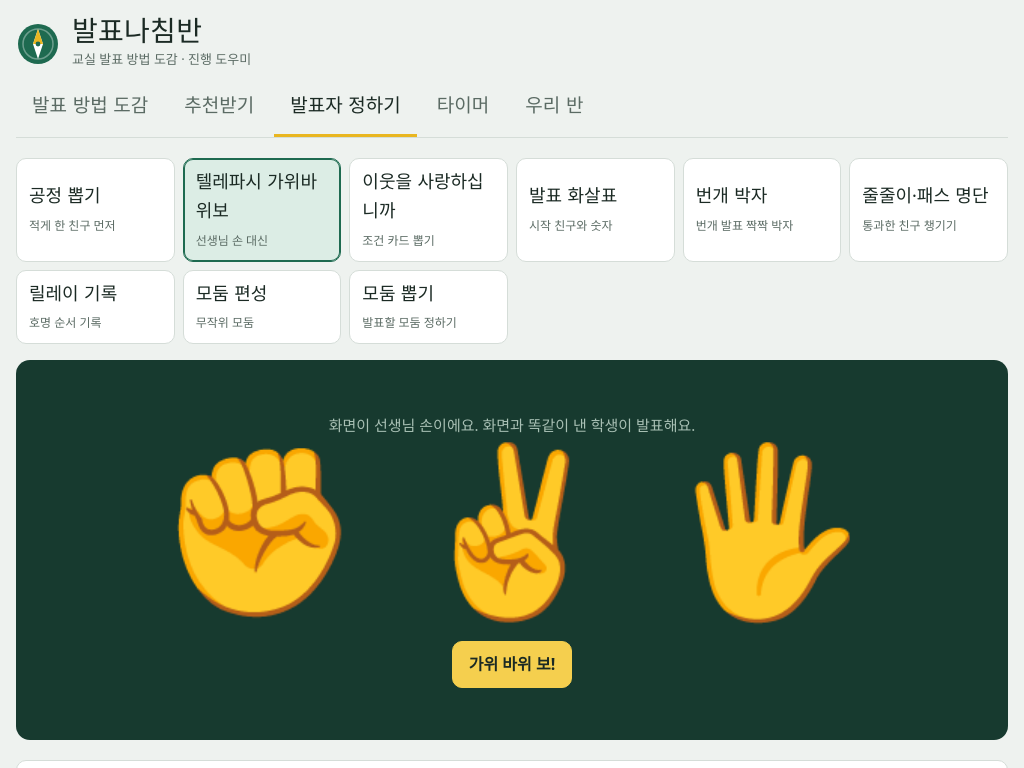
Test: 발표자 정하기 도구 › 명단이 필요 없는 도구는 바로 쓸 수 있다
Click the button "가위 바위 보!": (512, 664) [452,641,572,688]
Wait 1800 ms
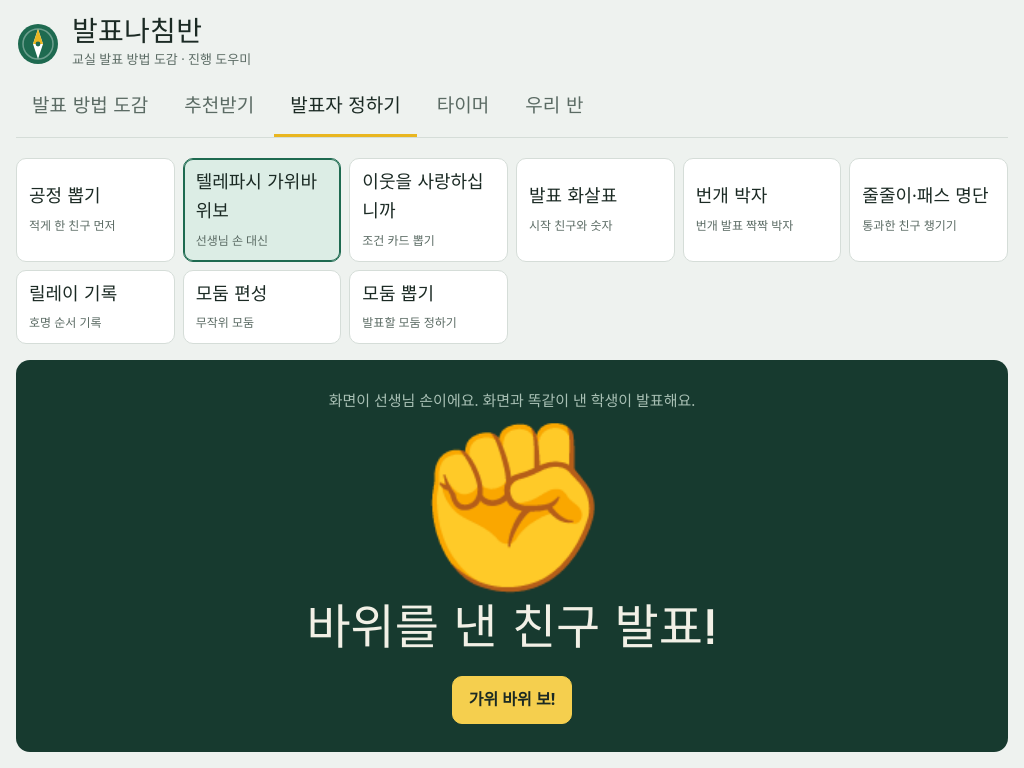
Result: the text "낸 친구 발표!" is shown at [439,606,718,654]
